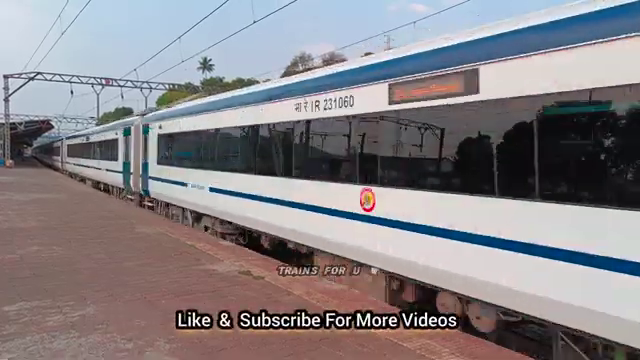Boogie: (312, 94, 361, 110)
